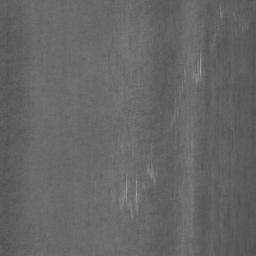Silk spot: (73, 0, 256, 256), (0, 0, 40, 256), (243, 161, 256, 179)
